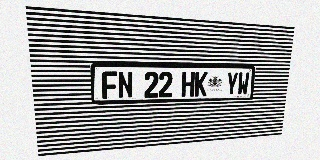2: (144, 71, 159, 98), (159, 72, 173, 97)
F: (102, 71, 118, 99)
H: (181, 72, 195, 97)
K: (194, 72, 208, 96)
N: (118, 71, 133, 98)
W: (237, 72, 250, 95)
Y: (225, 72, 238, 96)
